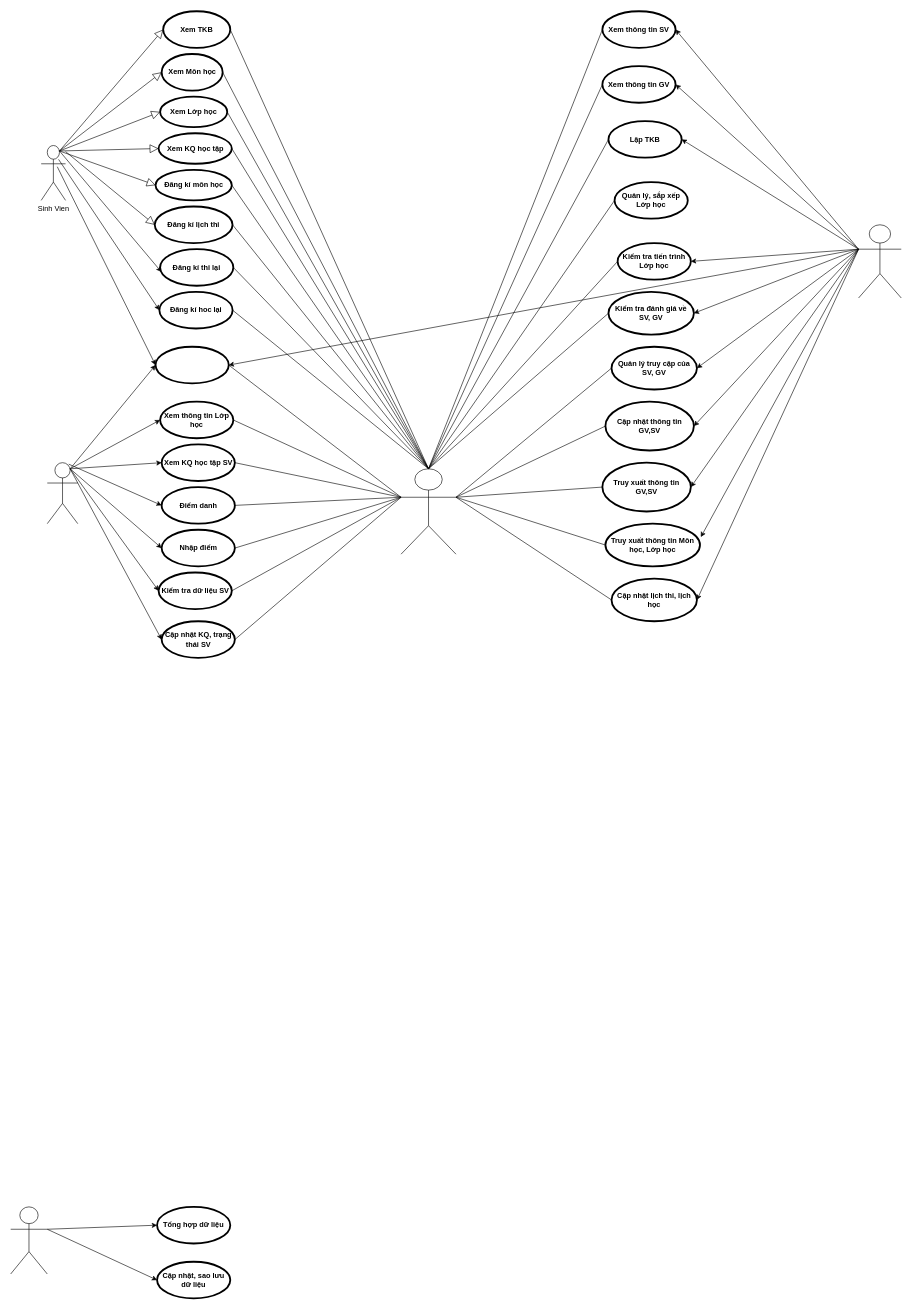
Some shapes in this 917 by 1310 pixel diagram are drawn without their labels. Here are the shapes that lost their labels. From the top down, the centre of each, then its label:
At (879,261): "Giáo vụ (Admin)".
At (191,365): "Đăng nhập".
At (62,493): "Giáo Viên".
At (428,511): "CSDL".
At (28,1240): "Hệ thống".
